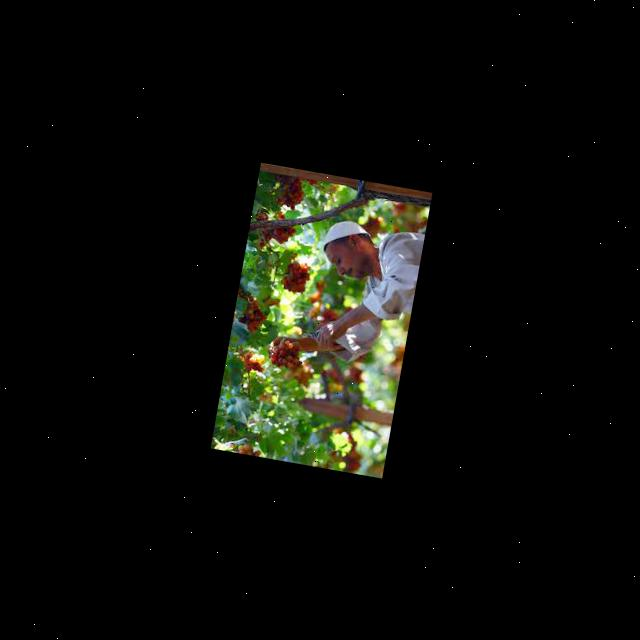grape: (264, 334, 300, 369)
